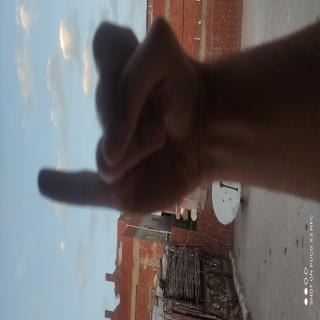MEEM: (44, 77, 141, 320)
